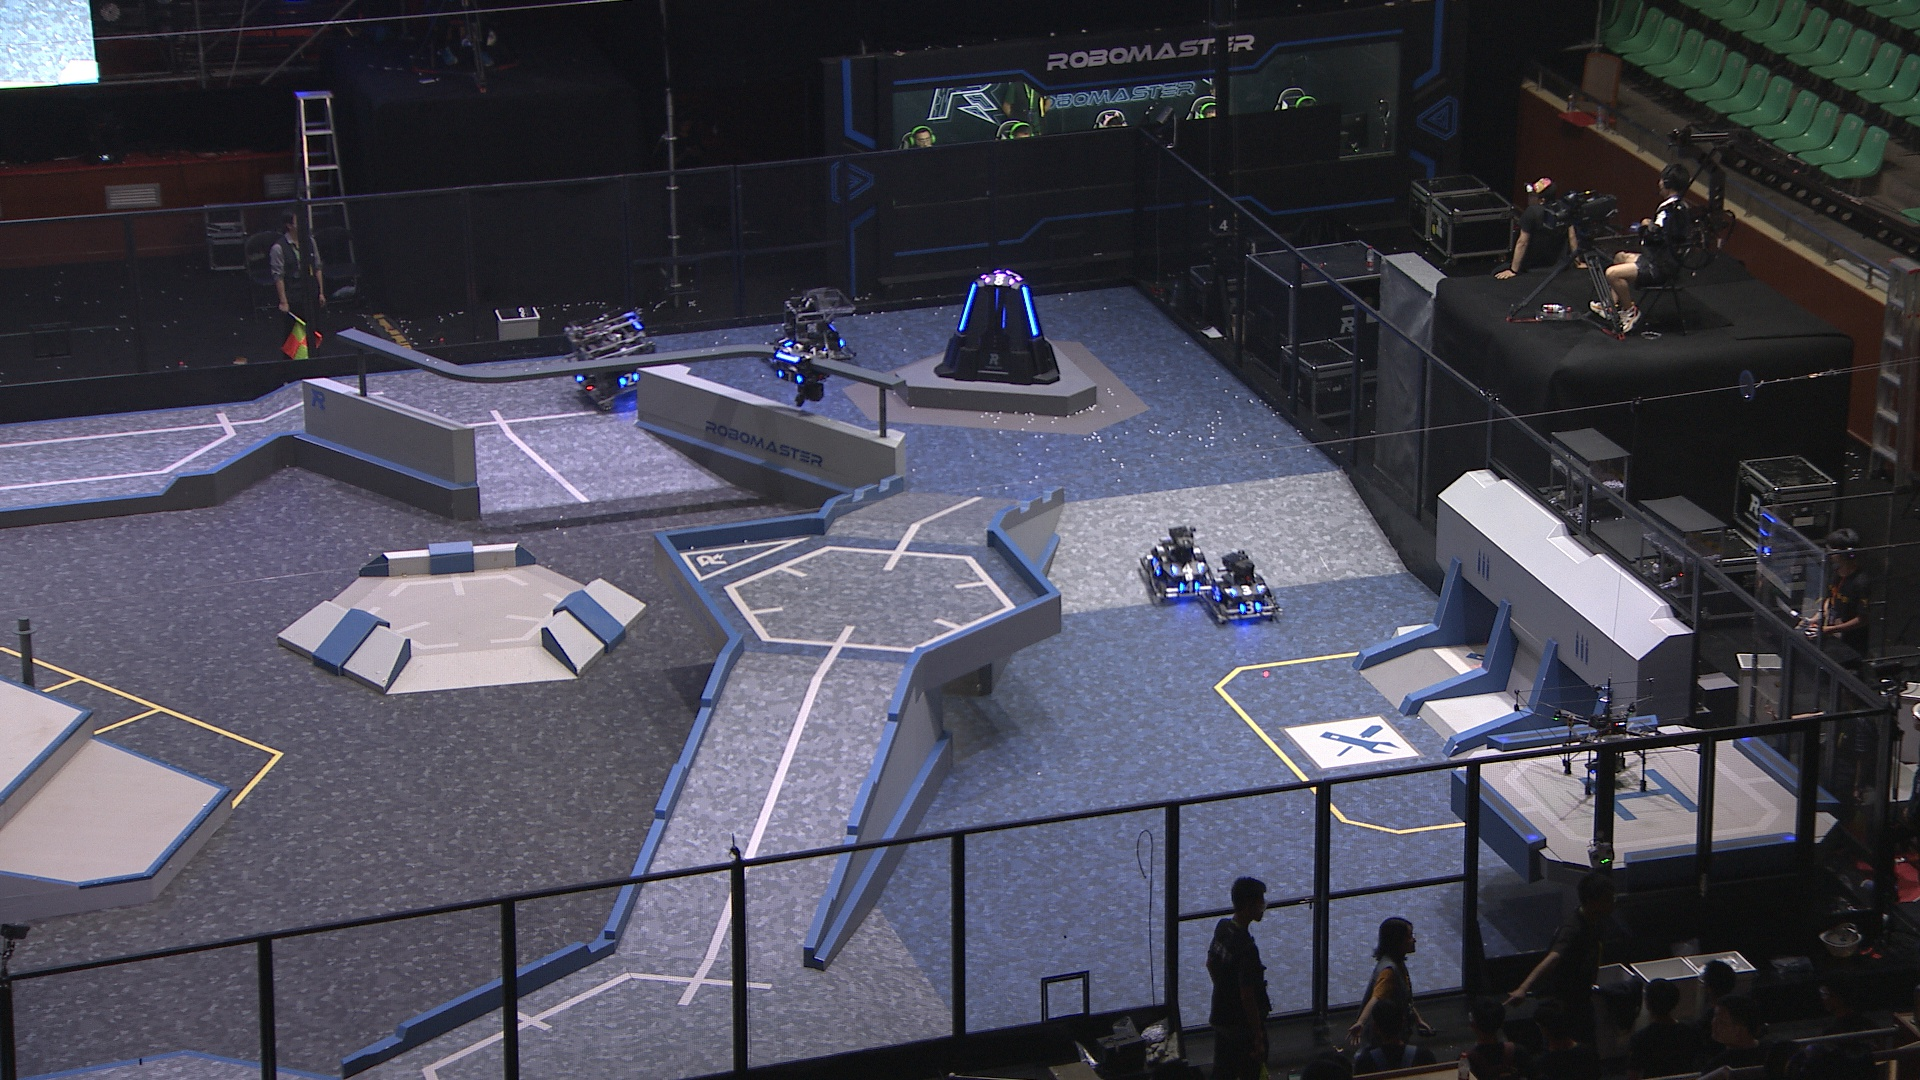armor: (955, 282, 978, 332), (1021, 284, 1040, 334), (775, 368, 803, 385), (1229, 585, 1265, 597), (1237, 600, 1263, 616), (617, 372, 641, 389), (1172, 562, 1205, 574), (1176, 580, 1201, 593), (1150, 556, 1163, 578), (778, 335, 794, 349), (1209, 585, 1222, 603), (807, 347, 828, 356), (993, 289, 1001, 309)
base: (934, 262, 1060, 385)
car: (564, 309, 655, 411), (764, 287, 860, 375), (1199, 550, 1280, 626), (1135, 524, 1211, 603)
ignore: (984, 276, 1015, 286)
watcher: (767, 344, 835, 406)
